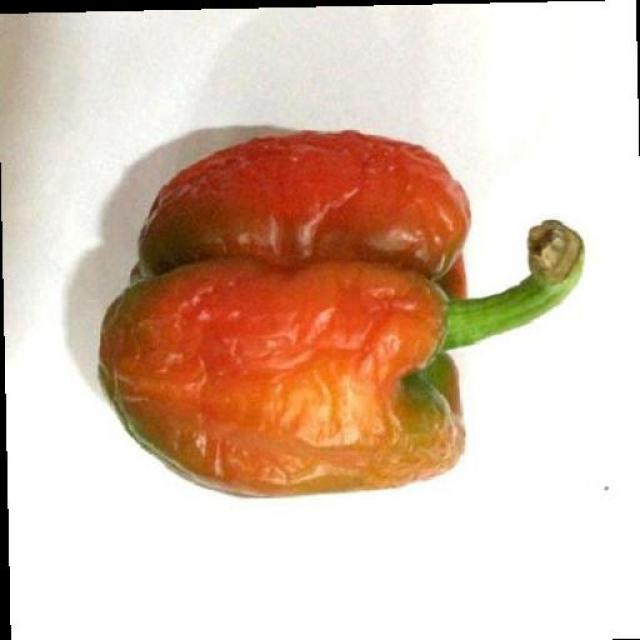Stale_Capsicum: (130, 94, 580, 516)
